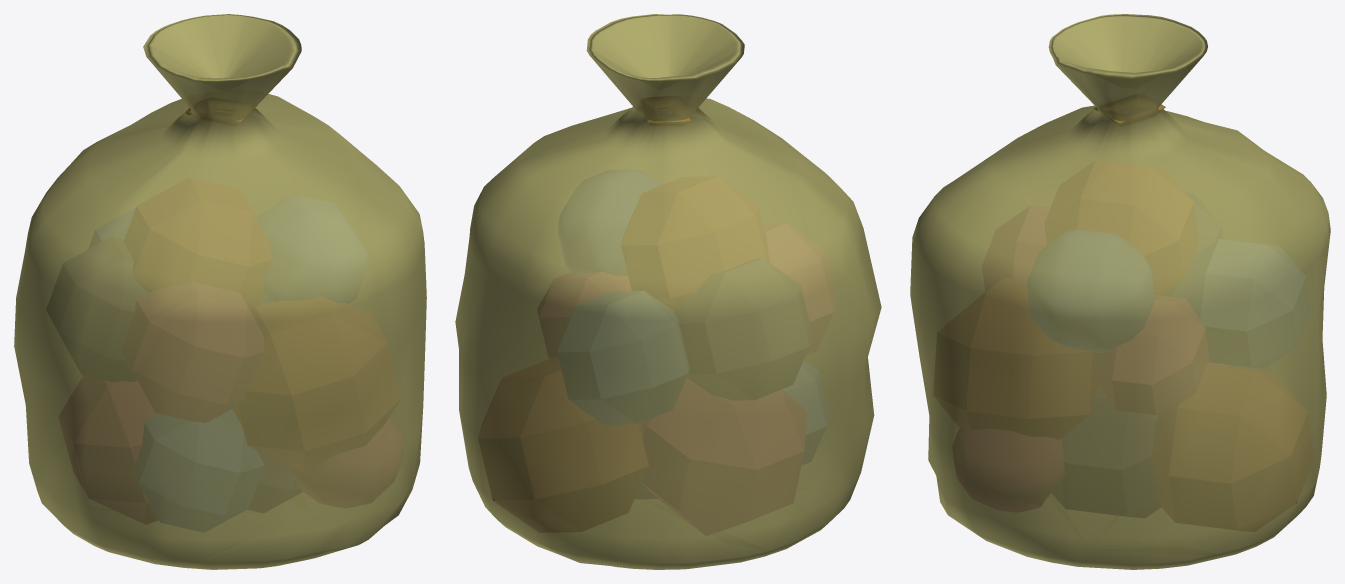
File: Garbagebag1.fbx
3 views of the same model, side by side, from view 1: azimuth 30°, elevation 25°; view 2: azimuth 150°, elevation 25°; view 3: azimuth 270°, elevation 25° (orthographic).
Parts seen in each view (by area): view 1: polySurface6; view 2: polySurface6; view 3: polySurface6.
Part boxes in pixels (x1,y1,x2,y2): polySurface6: [14, 14, 426, 569]; polySurface6: [455, 14, 881, 569]; polySurface6: [910, 14, 1330, 569].
Bounding box in the file's own units: 13.33 × 16.46 × 13.28.
